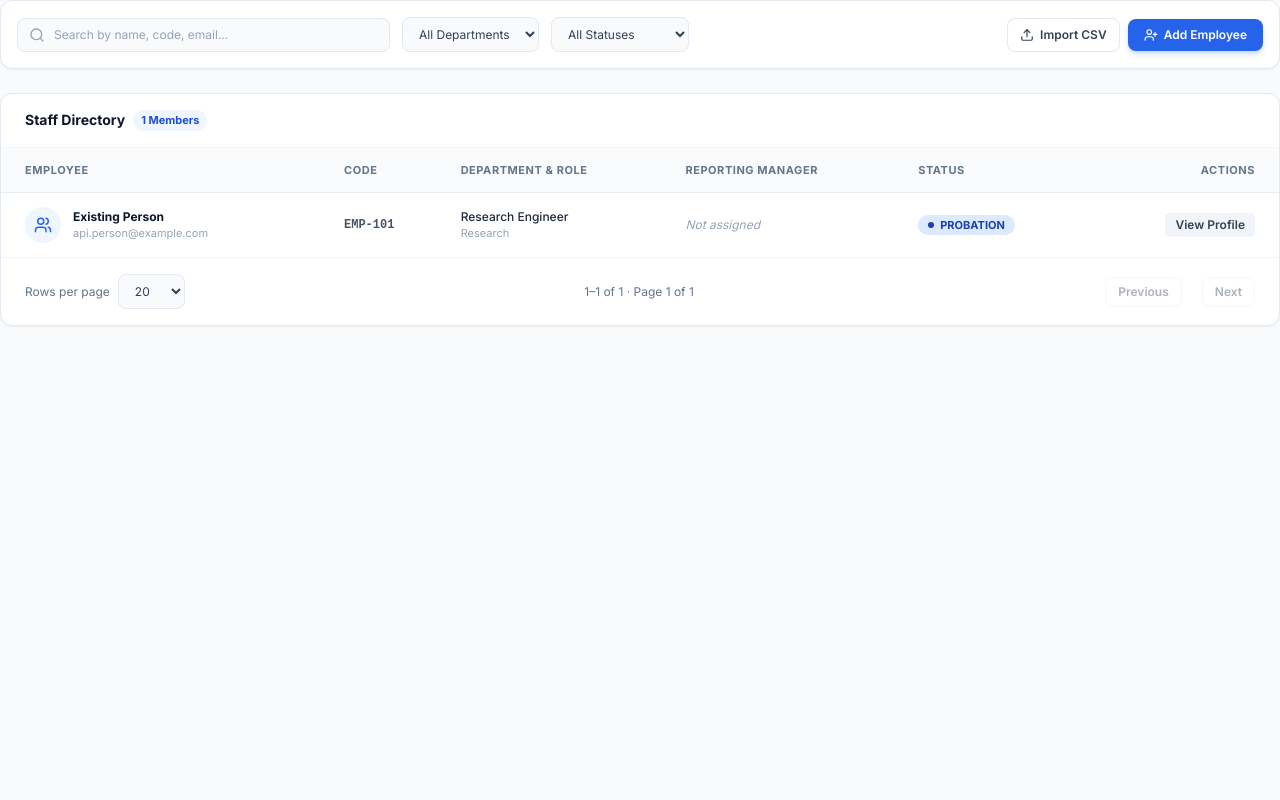
Scenario: Real read-only Employees directory › opens editing from real details and refreshes both directory and profile after saving
Expected: the text "Existing Person" is shown, [73, 209, 164, 224]
Click the button with aria-label "View profile for Existing Person" at (1210, 225), box [1166, 213, 1255, 237]
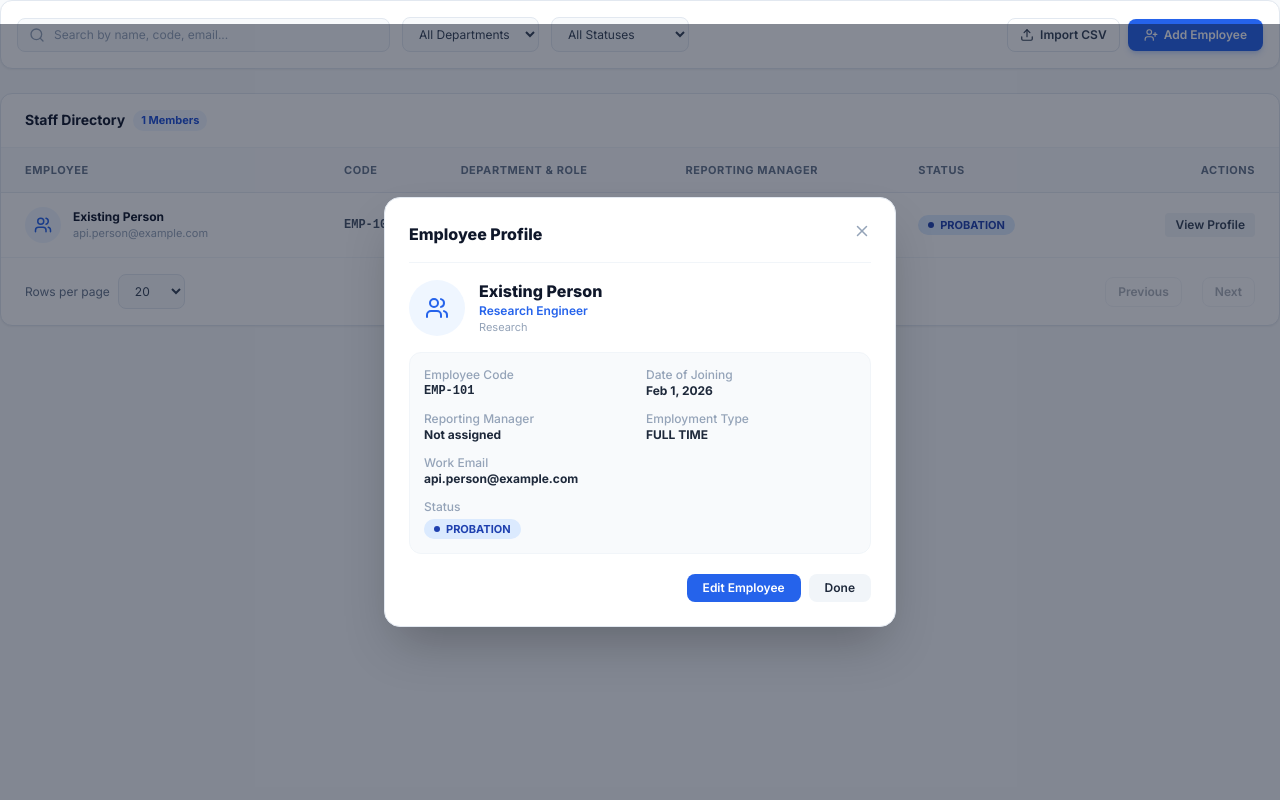
Click the button "Edit Employee" at (744, 588), box [687, 574, 801, 602]
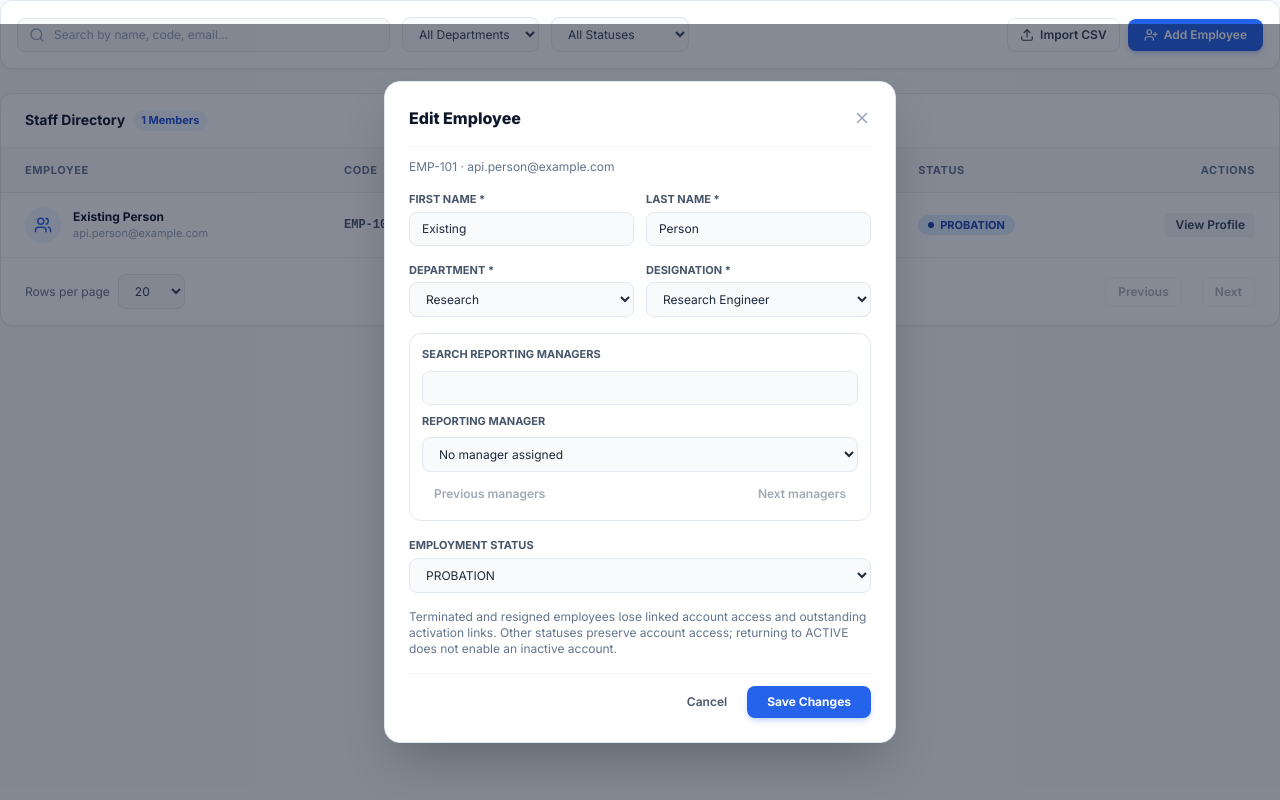
Expected: the field labelled "First Name *" holds "Existing"
Replace the text in the field labelled "First Name *" with "Updated" at (522, 229), box [409, 212, 634, 246]
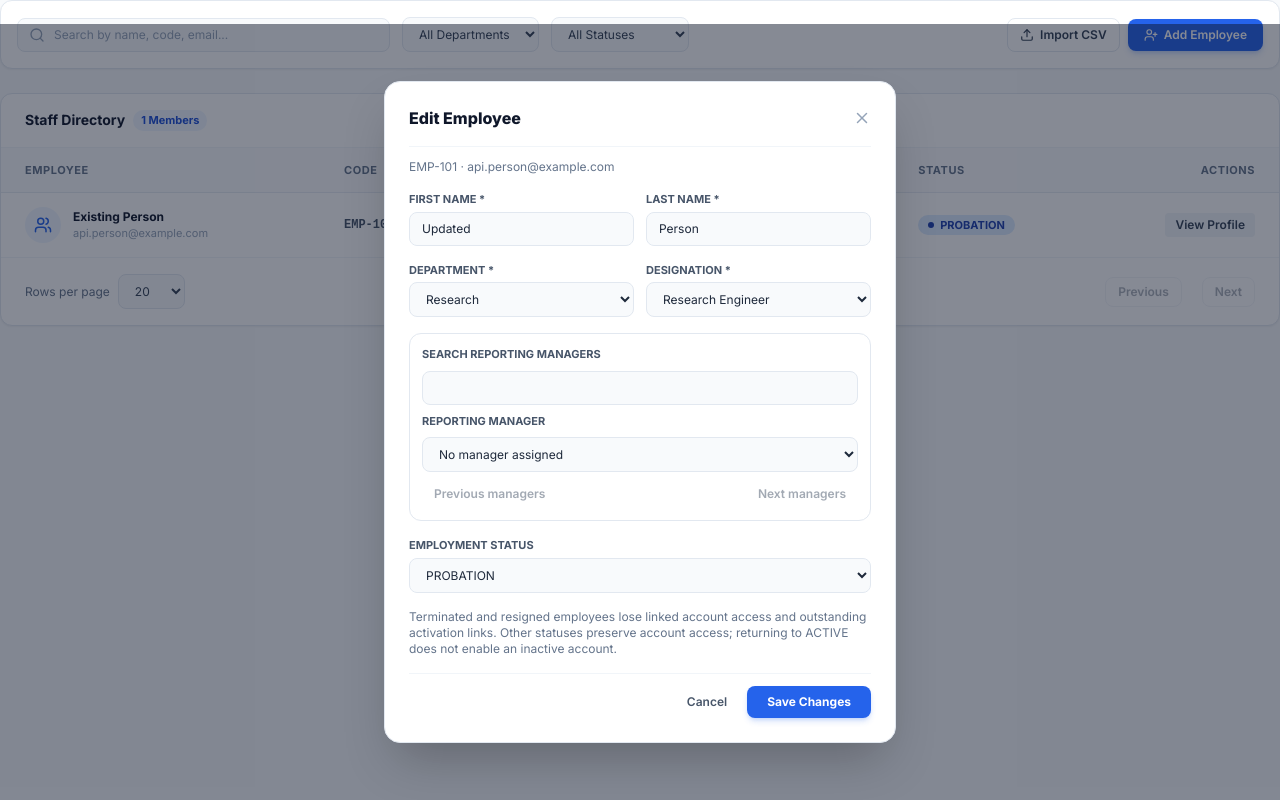
Click the button "Save Changes" at (809, 702), box [747, 686, 871, 718]
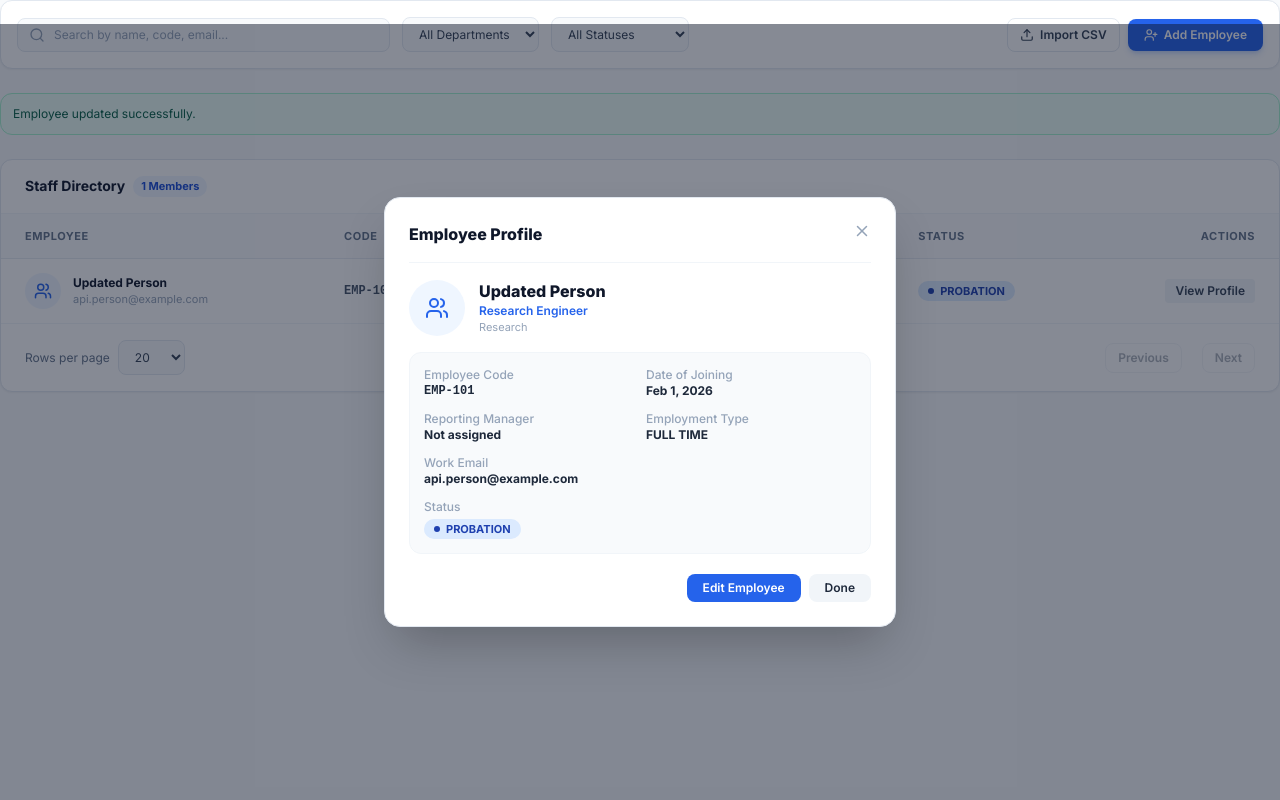
Expected: the text "Employee updated successfully." is shown, [0, 93, 1279, 135]
Expected: the heading "Updated Person" is shown, [479, 279, 606, 303]
Expected: the text "Updated Person" is shown, [73, 275, 167, 290]
